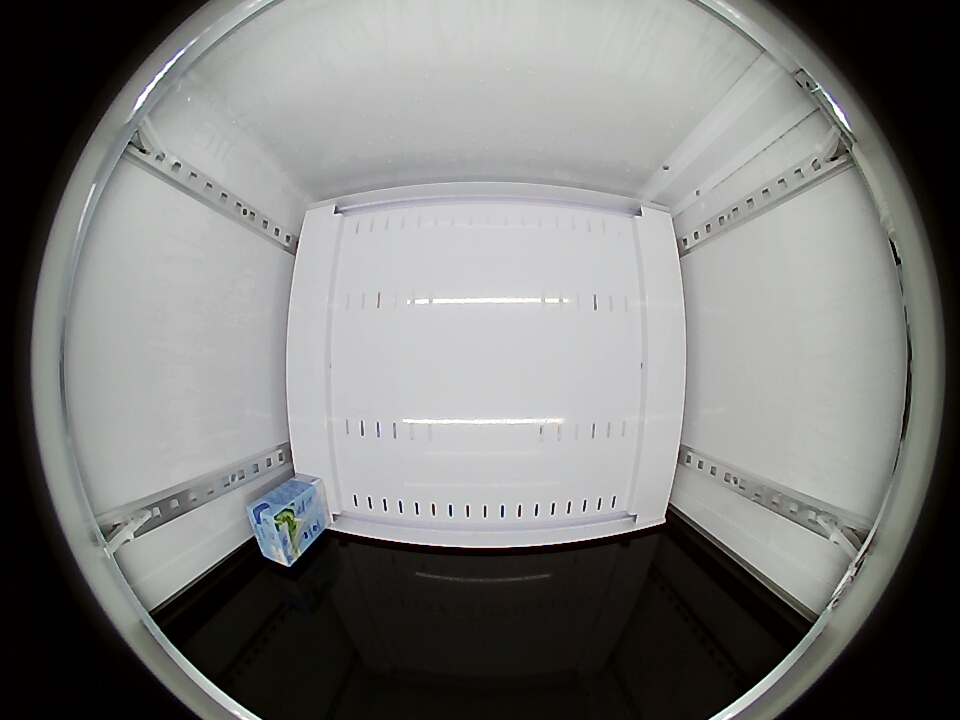weitanaiditang: (247, 495, 306, 567)
